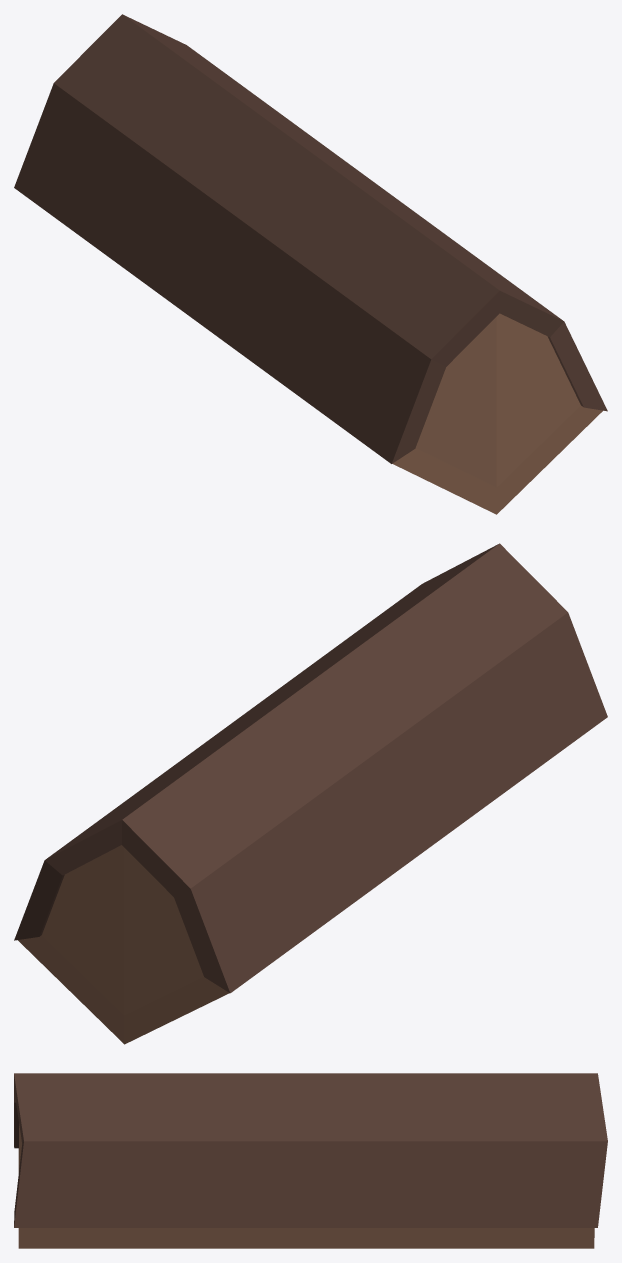
File: log.fbx
3 renders of one model, top to bottom at view 1: azimuth 30°, elevation 25°; view 2: azimuth 150°, elevation 25°; view 3: azimuth 270°, elevation 25°, orthographic. The views are drawn at different scales.
Parts seen in each view (by area): view 1: Cylinder; view 2: Cylinder; view 3: Cylinder.
Boxes of the visible parts, x1,y1,x2,y2 form: Cylinder: (14, 14, 607, 514); Cylinder: (14, 543, 607, 1044); Cylinder: (14, 1073, 607, 1248).
Size of the model in its own units: 40 by 40 by 123.
